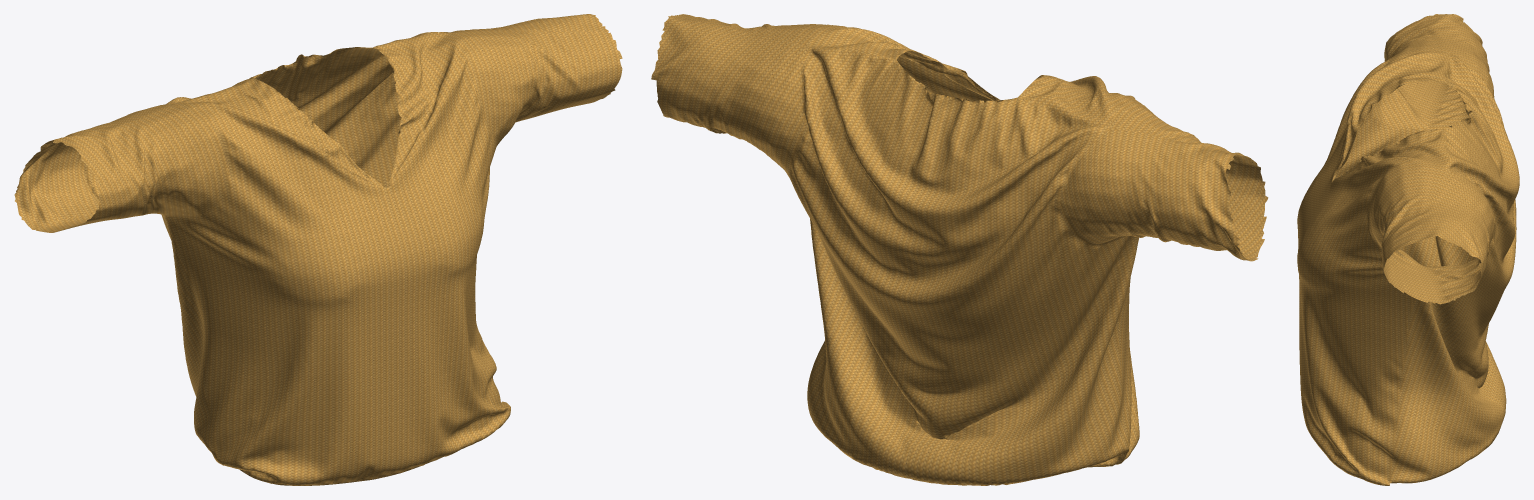
Rendered from female_orange_tshirt_XXL.glb.
3 renders of one model, left to right at view 1: azimuth 30°, elevation 25°; view 2: azimuth 150°, elevation 25°; view 3: azimuth 270°, elevation 25°, orthographic. The views are drawn at different scales.
Parts seen in each view (by area): view 1: weld_chompa_varon_3b_Material719171_0; view 2: weld_chompa_varon_3b_Material719171_0; view 3: weld_chompa_varon_3b_Material719171_0.
Boxes of the visible parts, x1,y1,x2,y2 form: weld_chompa_varon_3b_Material719171_0: (14, 14, 622, 485); weld_chompa_varon_3b_Material719171_0: (651, 14, 1268, 485); weld_chompa_varon_3b_Material719171_0: (1297, 14, 1519, 485).
Size of the model in its own units: 0.822 by 0.51 by 0.323.
1 material, 1 textured.
